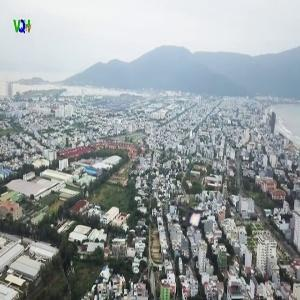drone: (163, 194, 214, 245)
